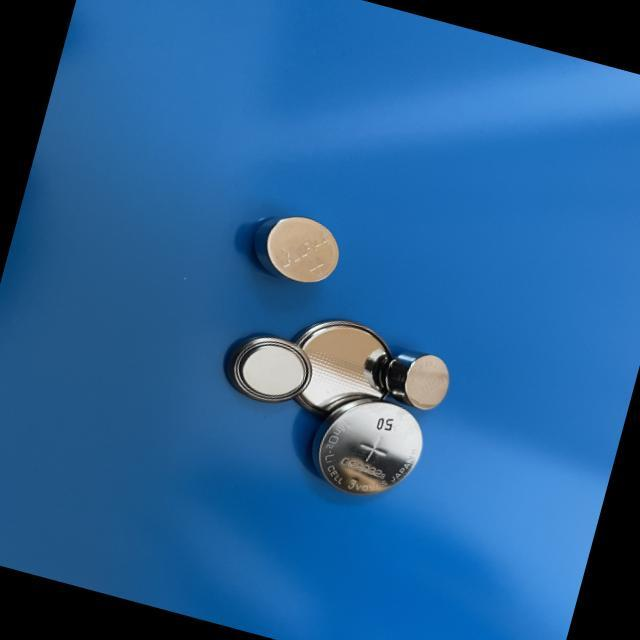COIN: (270, 306, 408, 436), (296, 382, 431, 510), (213, 324, 319, 414), (243, 204, 349, 292), (373, 340, 459, 418)
